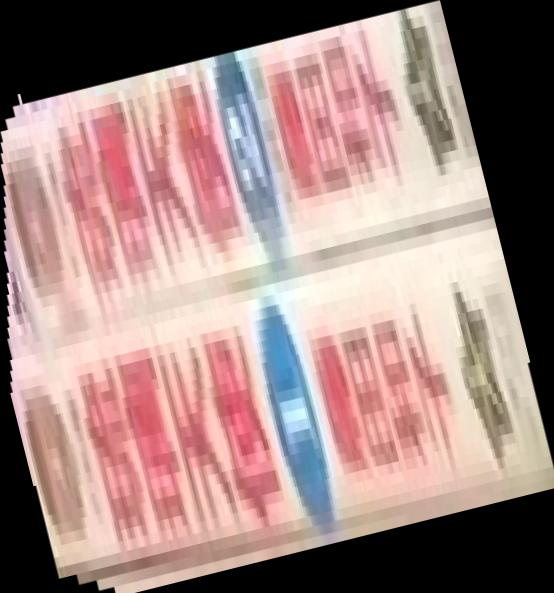flat: (1, 1, 554, 593)
